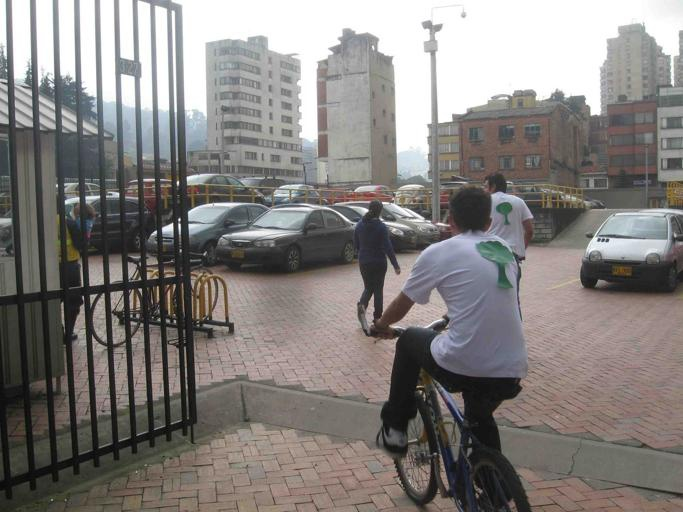non-vehicle: (360, 314, 531, 512), (85, 242, 223, 345)
